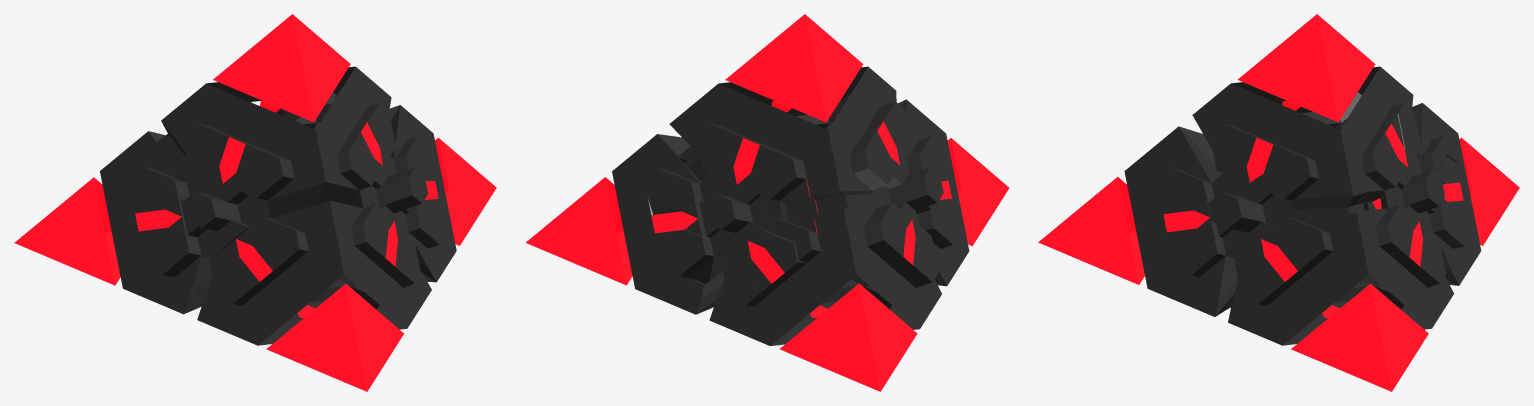
The model's file is tmers.glb.
3 views of the same model, side by side, from view 1: azimuth 30°, elevation 25°; view 2: azimuth 150°, elevation 25°; view 3: azimuth 270°, elevation 25° (orthographic).
Parts seen in each view (by area): view 1: Cone, Cone.006, Cone.004, Cone.002, Cone.001, Cone.005, Cone.003; view 2: Cone, Cone.006, Cone.001, Cone.004, Cone.003, Cone.005, Cone.002; view 3: Cone, Cone.006, Cone.003, Cone.004, Cone.002, Cone.005, Cone.001.
Boxes of the visible parts, <box> form: Cone: <box>100,66,456,345</box>; Cone.006: <box>128,103,445,319</box>; Cone.004: <box>213,14,350,122</box>; Cone.002: <box>266,284,403,391</box>; Cone.001: <box>14,177,120,285</box>; Cone.005: <box>135,100,438,318</box>; Cone.003: <box>435,137,496,245</box>; Cone: <box>612,66,969,345</box>; Cone.006: <box>644,92,958,342</box>; Cone.001: <box>779,283,917,391</box>; Cone.004: <box>725,14,863,122</box>; Cone.003: <box>525,177,632,285</box>; Cone.005: <box>651,101,951,317</box>; Cone.002: <box>947,138,1009,246</box>; Cone: <box>1124,66,1481,345</box>; Cone.006: <box>1156,101,1478,319</box>; Cone.003: <box>1291,283,1428,391</box>; Cone.004: <box>1237,14,1375,122</box>; Cone.002: <box>1038,177,1144,284</box>; Cone.005: <box>1163,100,1463,318</box>; Cone.001: <box>1459,137,1519,245</box>.
Size of the model in its own units: 0.3346 by 0.2186 by 0.3336.
